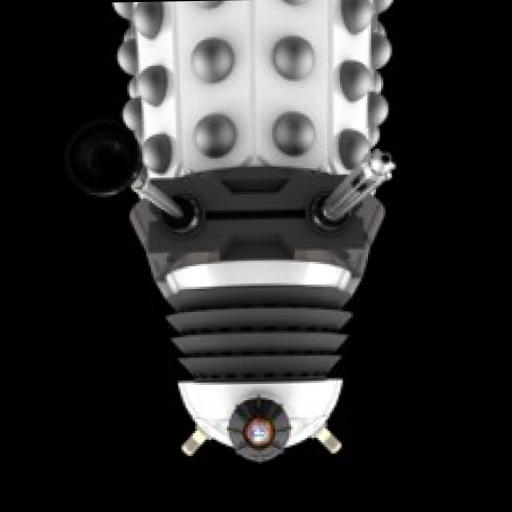dalek: (61, 0, 408, 467)
